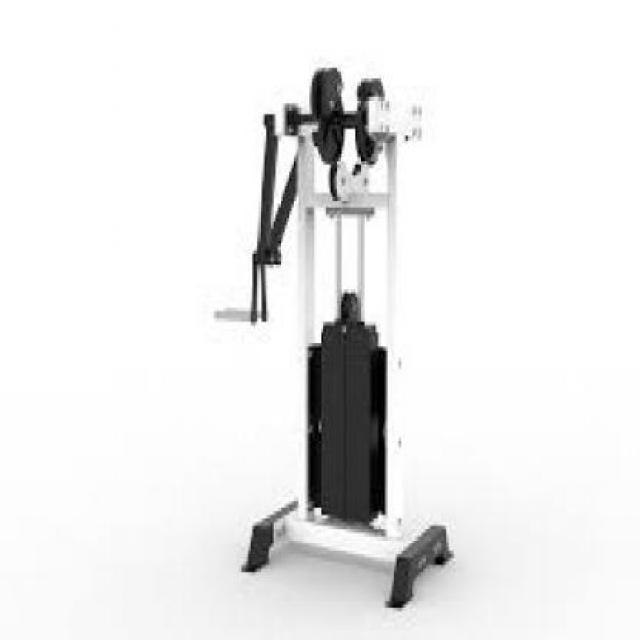lateral raises machine: (218, 63, 456, 609)
